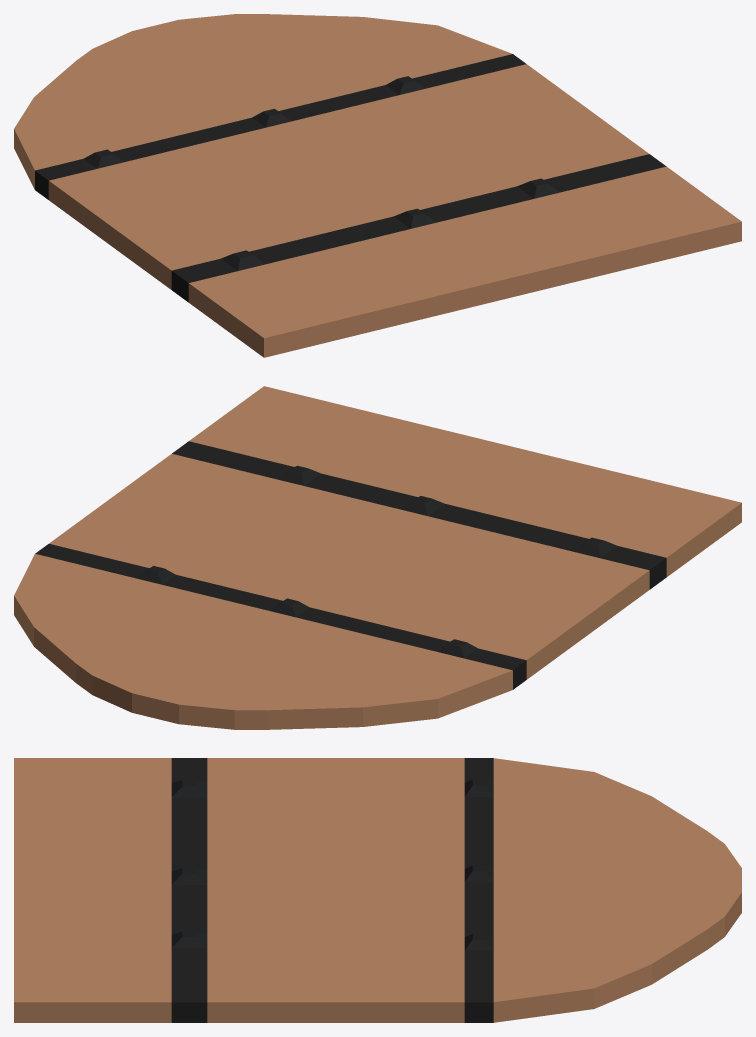
File: drawbridge.glb
The picture shows the model from 3 angles, top to bottom: view 1: azimuth 30°, elevation 25°; view 2: azimuth 150°, elevation 25°; view 3: azimuth 270°, elevation 25°; orthographic projection. The views are drawn at different scales.
Visible parts, largest first — view 1: Cube; view 2: Cube; view 3: Cube.
Boxes of the visible parts, x1,y1,x2,y2 form: Cube: [14, 14, 741, 357]; Cube: [14, 386, 741, 729]; Cube: [14, 758, 741, 1022].
Bounding box in the file's own units: 2 × 0.1067 × 2.52.
Materials: 1 (1 with a texture image).
